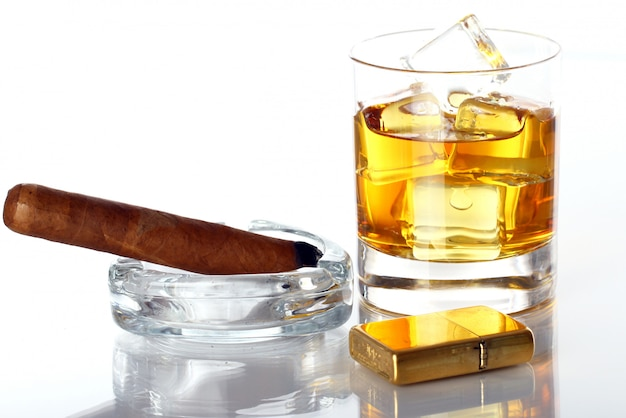alcohol: (346, 17, 562, 319)
cigarette: (4, 182, 324, 275)
